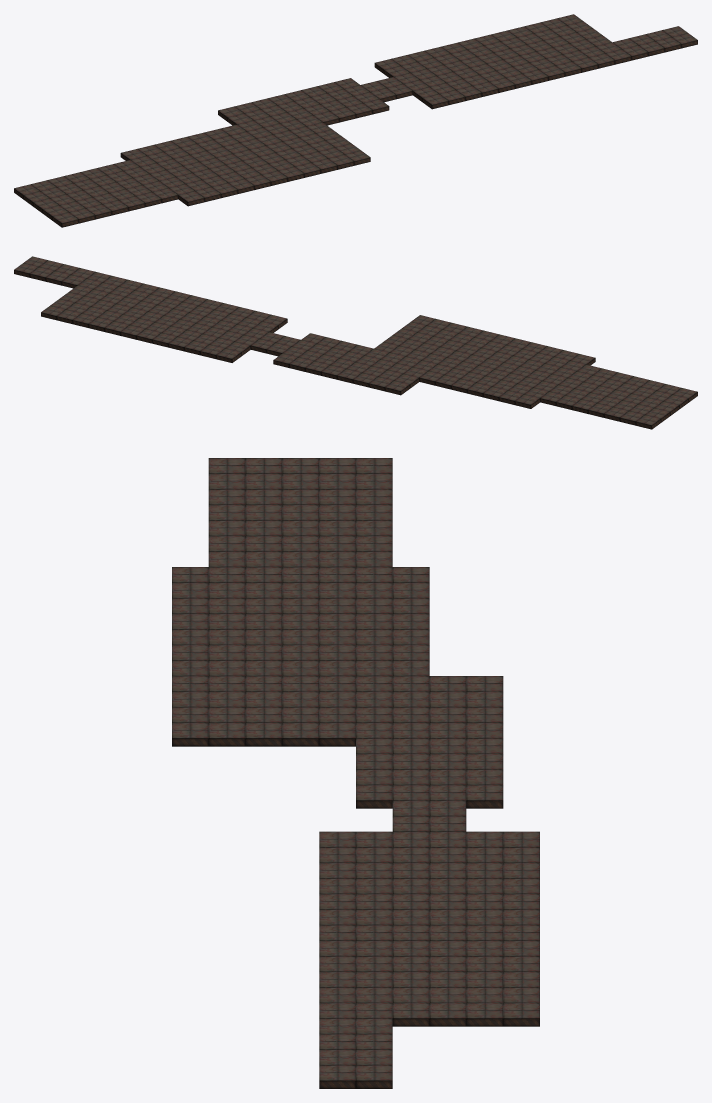
Rendered from TermProject_P1_floor.fbx.
3 renders of one model, top to bottom at view 1: azimuth 30°, elevation 25°; view 2: azimuth 150°, elevation 25°; view 3: azimuth 270°, elevation 25°, orthographic. The views are drawn at different scales.
Visible parts, largest first — view 1: Floor.682; view 2: Floor.682; view 3: Floor.682.
Boxes of the visible parts, left/top/right/bottom form: Floor.682: left=14, top=14, right=697, bottom=227; Floor.682: left=14, top=256, right=697, bottom=429; Floor.682: left=172, top=458, right=539, bottom=1088.
Bounding box in the file's own units: 16000 × 100 × 4000.
